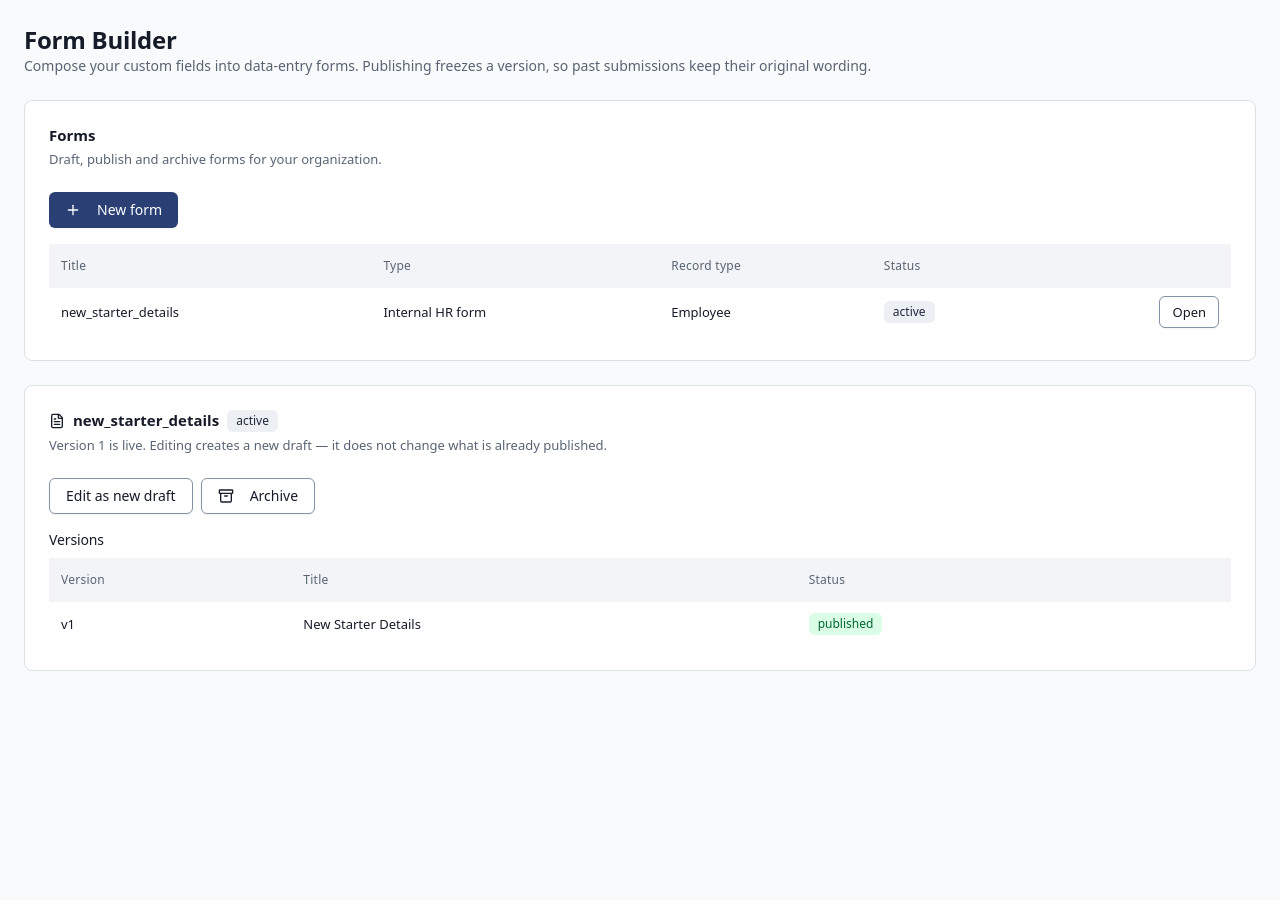
Test case: Form Builder — archive / restore confirmation › asks before archiving a form; Cancel sends nothing
This screenshot has width=1280, height=900.
Click the button "Archive". click: click(258, 496)
box: [201,478,315,514]
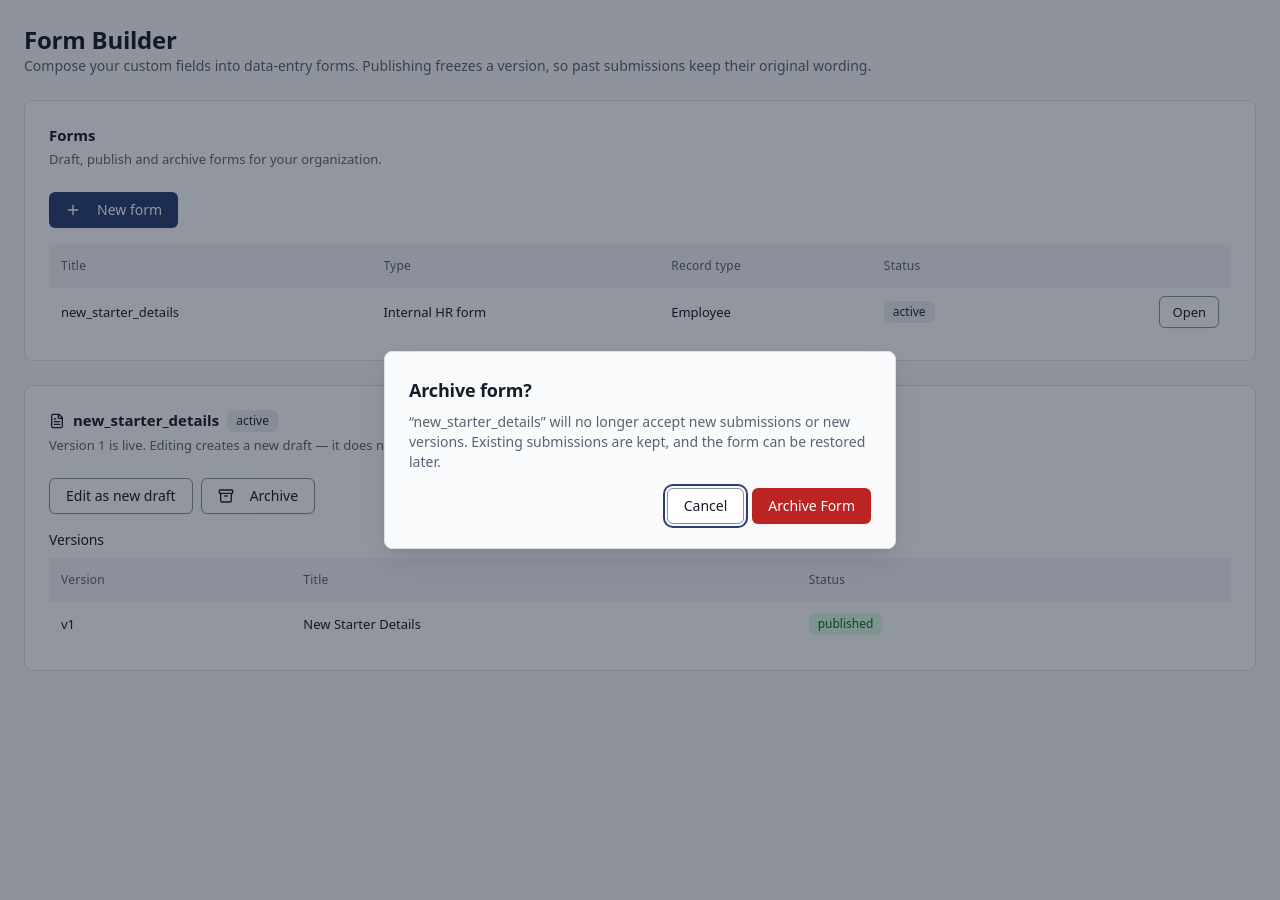
expect the dialog with test id "dialog-archive-custom-form" shows "Archive form?": met, box [409,378,532,402]
expect the dialog with test id "dialog-archive-custom-form" shows "“new_starter_details” will no longer accept new submissions or new versions. Existing submissions are kept": met, box [384,351,896,549]
expect the button with test id "dialog-archive-custom-form-confirm" reads "Archive Form": met, box [752,488,871,524]
Click the button with test id "dialog-archive-custom-form-cancel". click: click(706, 506)
box: [667,488,744,524]
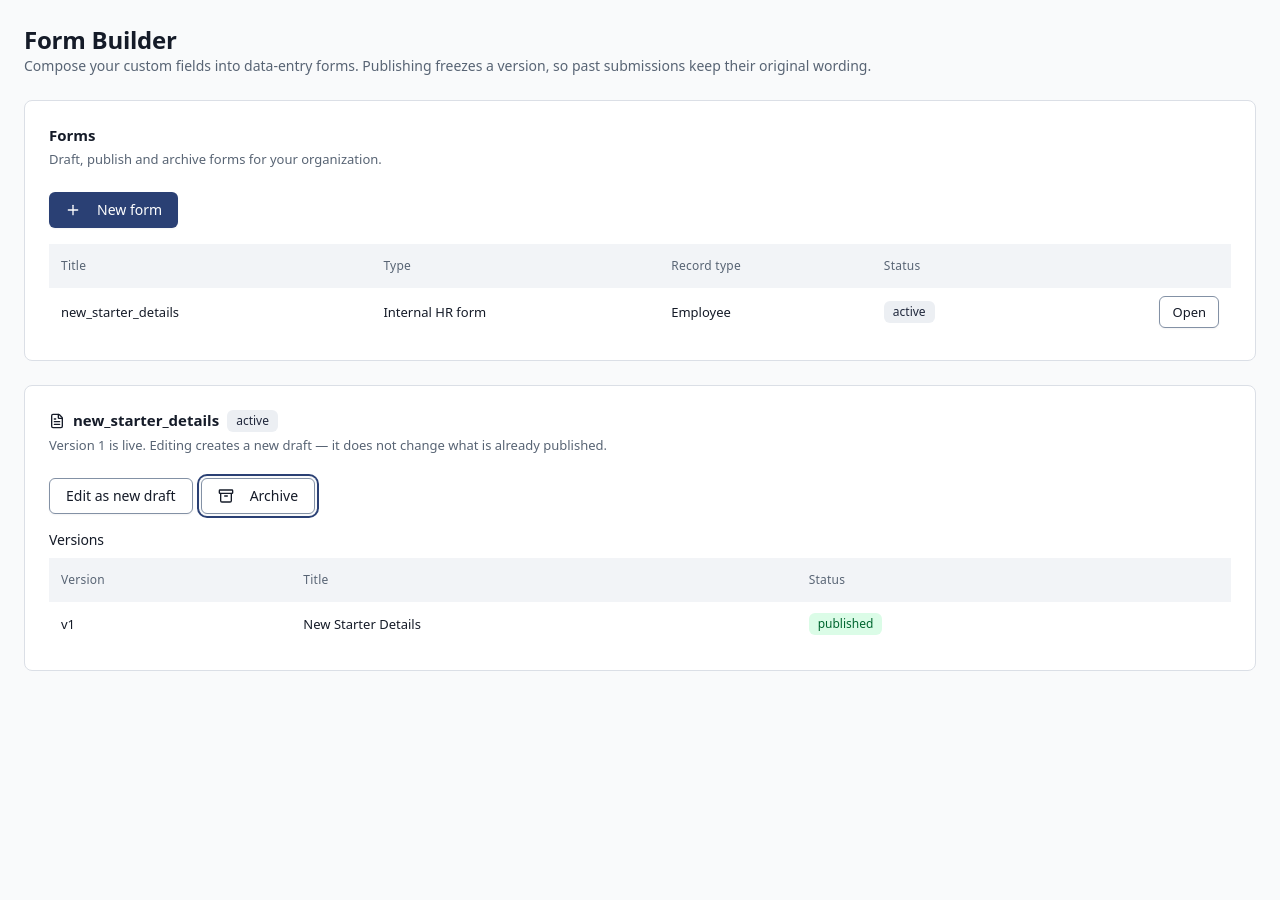
expect the dialog with test id "dialog-archive-custom-form" is gone: met
